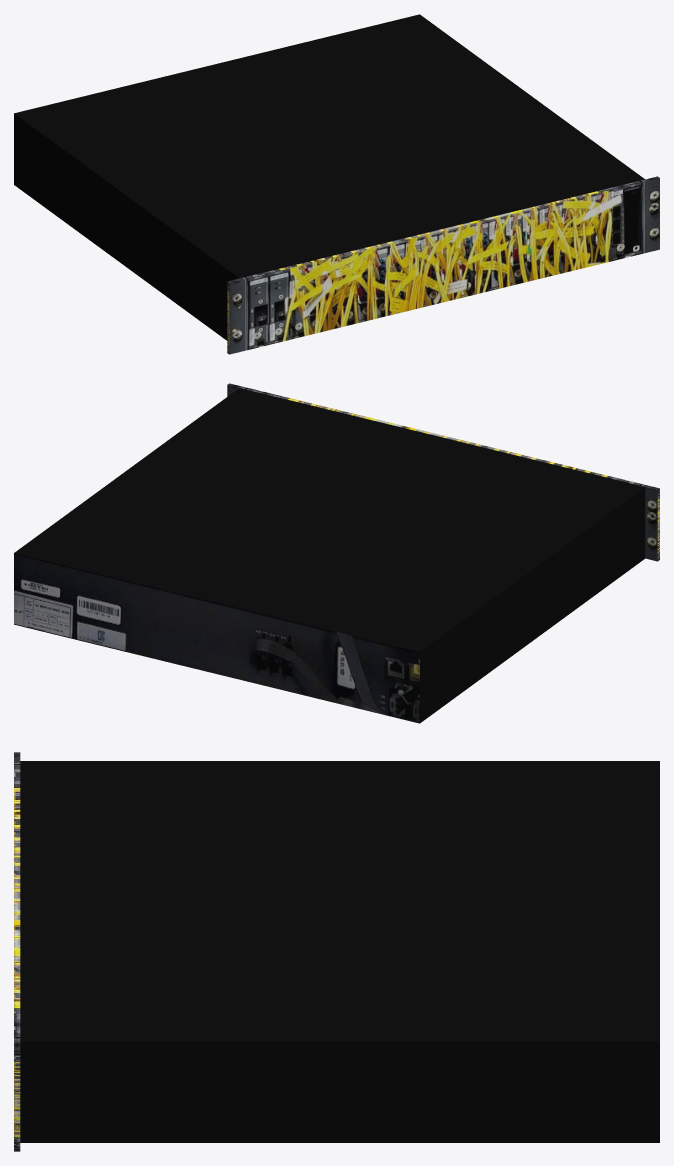
The model's file is UTRANS-20.fbx.
The picture shows the model from 3 angles, top to bottom: view 1: azimuth 30°, elevation 25°; view 2: azimuth 150°, elevation 25°; view 3: azimuth 270°, elevation 25°; orthographic projection. The views are drawn at different scales.
Parts seen in each view (by area): view 1: UTRANS-20; view 2: UTRANS-20; view 3: UTRANS-20.
Part boxes in pixels (<box>): UTRANS-20: <box>14,14,659,354</box>; UTRANS-20: <box>14,383,659,723</box>; UTRANS-20: <box>14,752,659,1151</box>.
Bounding box in the file's own units: 560 × 88.9 × 513.
Materials: 3 (2 with a texture image).
